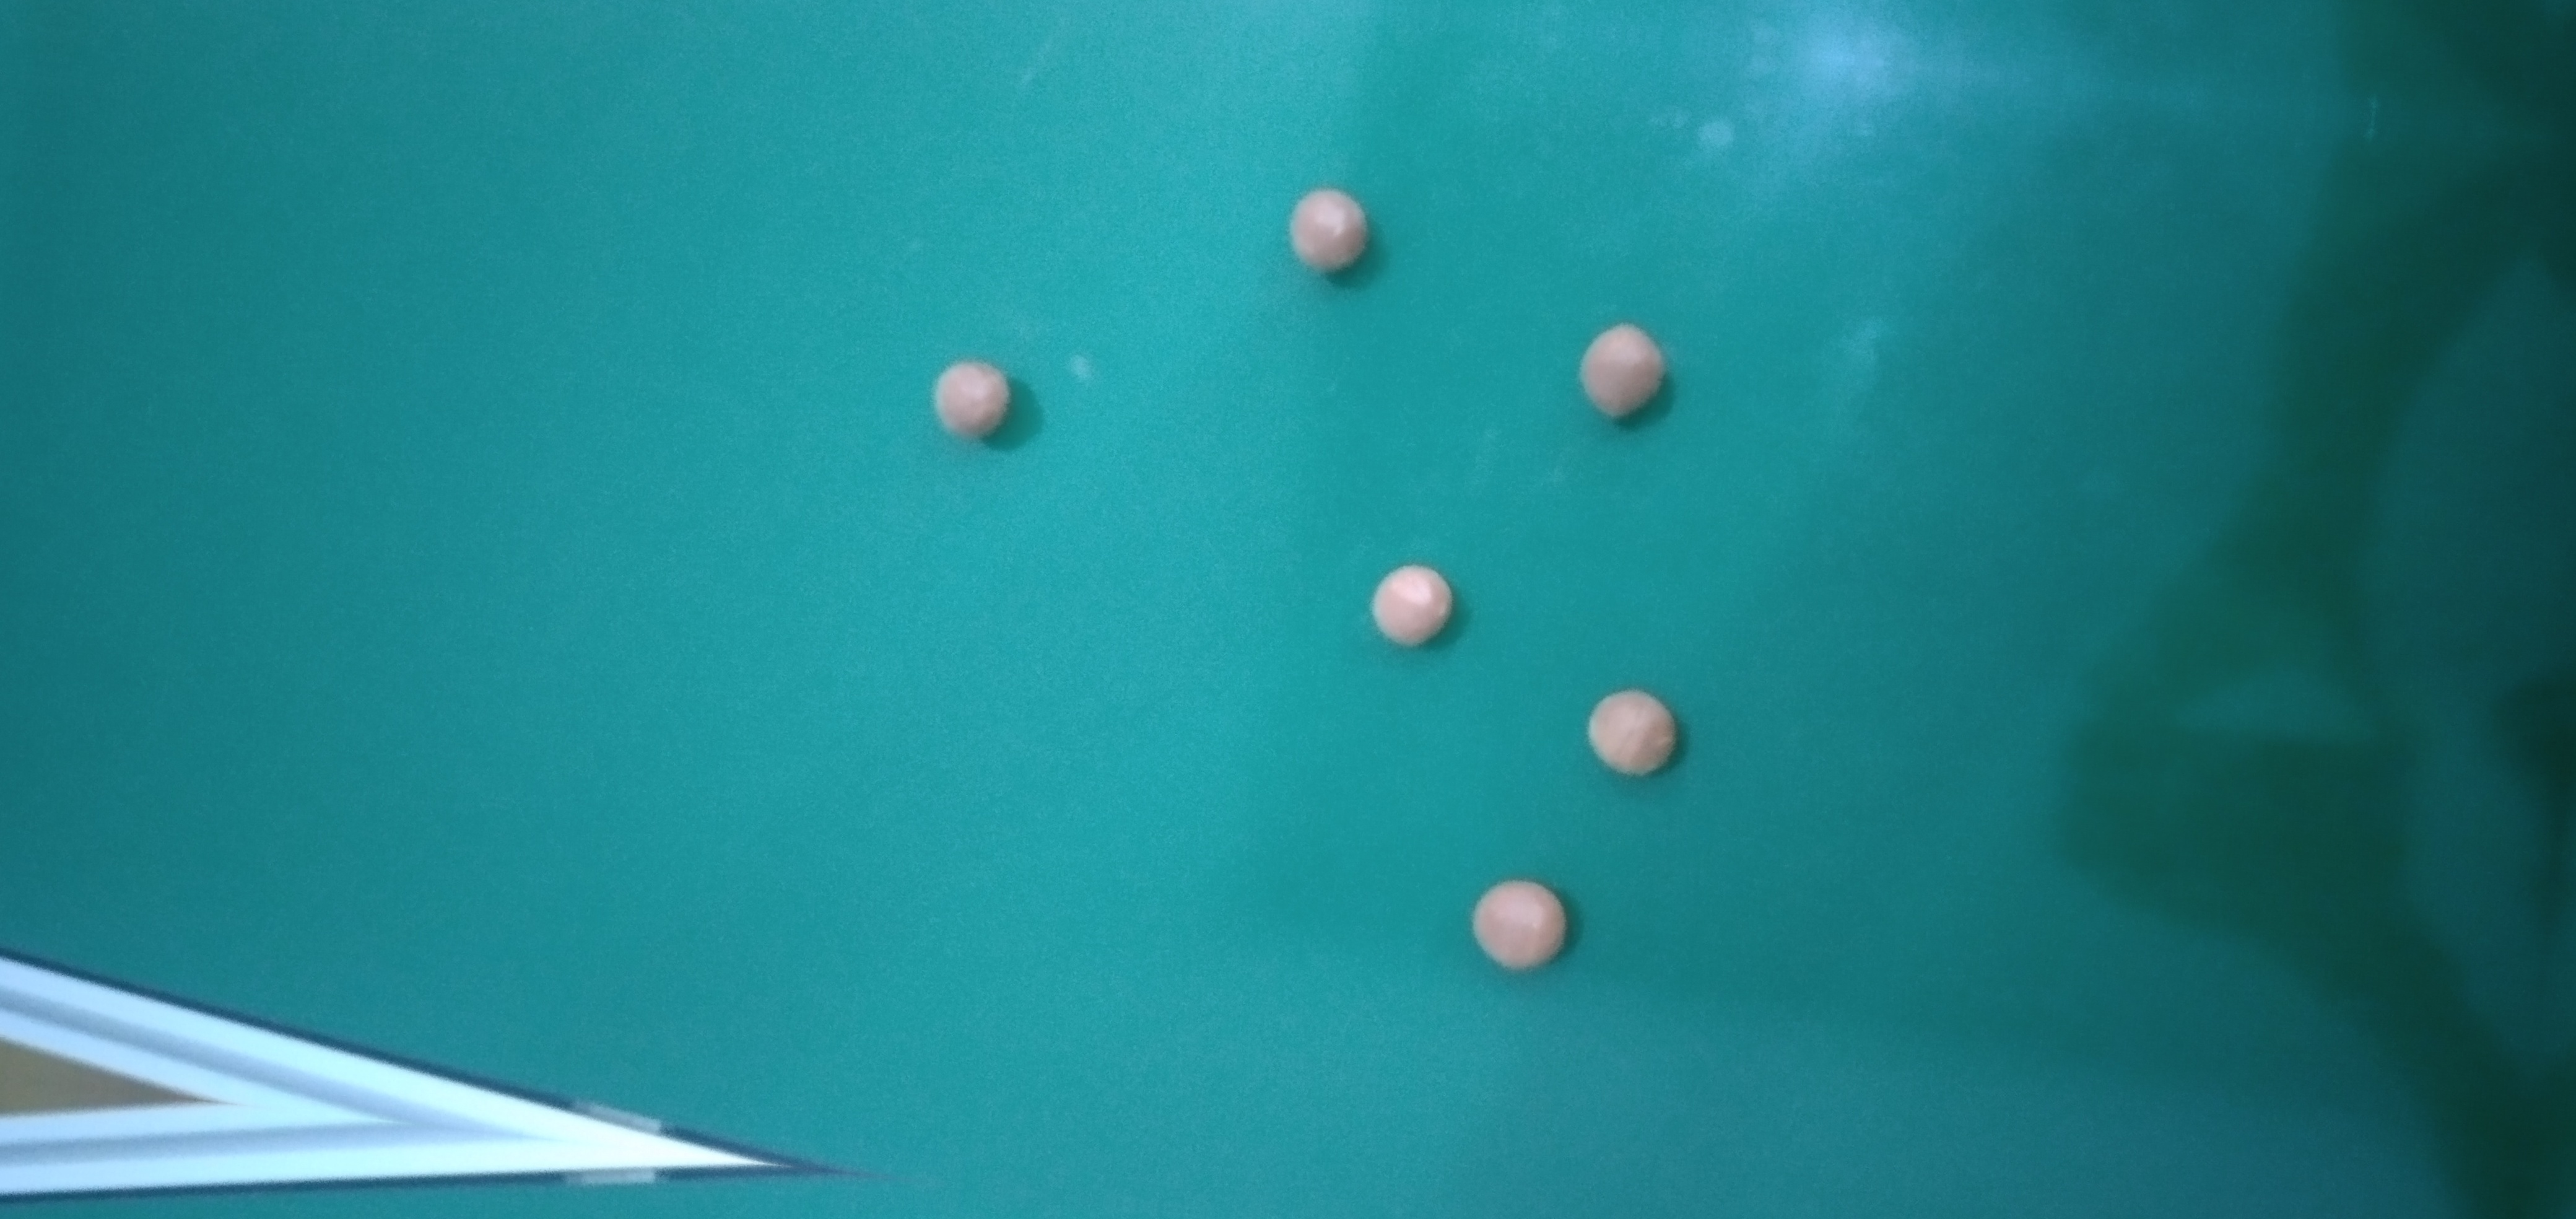mac: (1469, 874, 1577, 976), (1575, 320, 1672, 425), (1585, 682, 1684, 782), (1368, 559, 1460, 651), (1283, 186, 1372, 281), (928, 355, 1019, 444)
